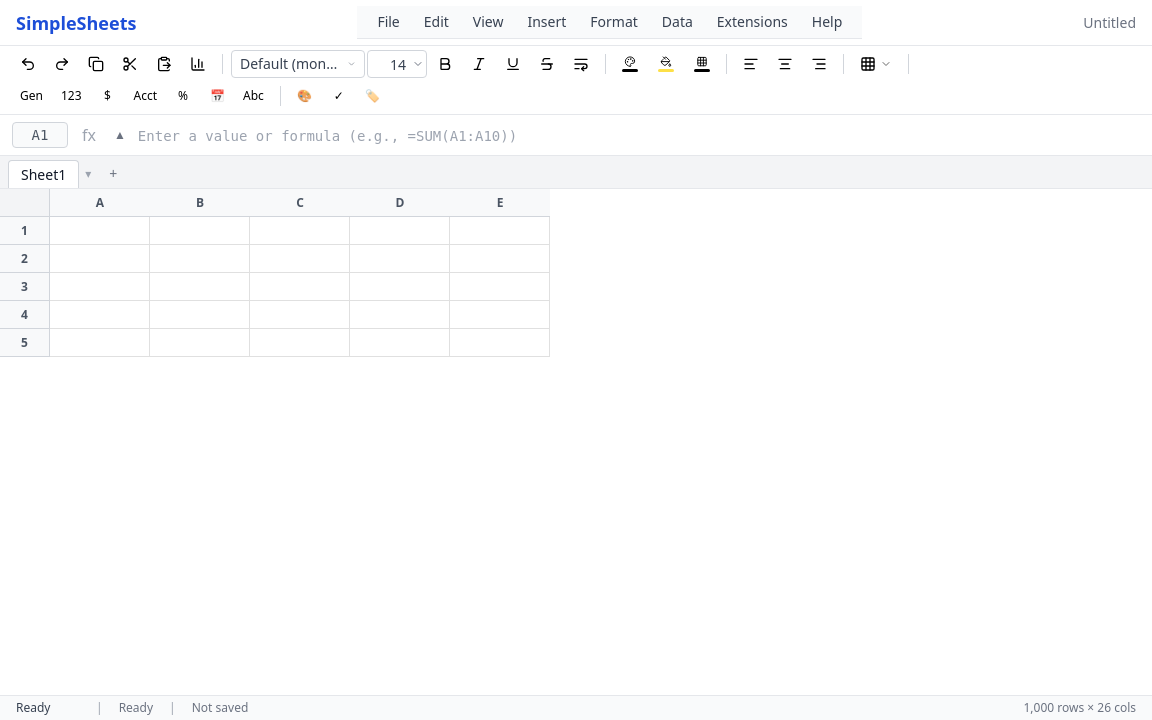
Scenario: App - Sheet Operations › adds a new sheet via SheetTabs
What coordinates should you click on to do the following:
click the button titled "Add a new sheet"
I would click on:
 (113, 174)
Its box is left=101, top=160, right=125, bottom=188.
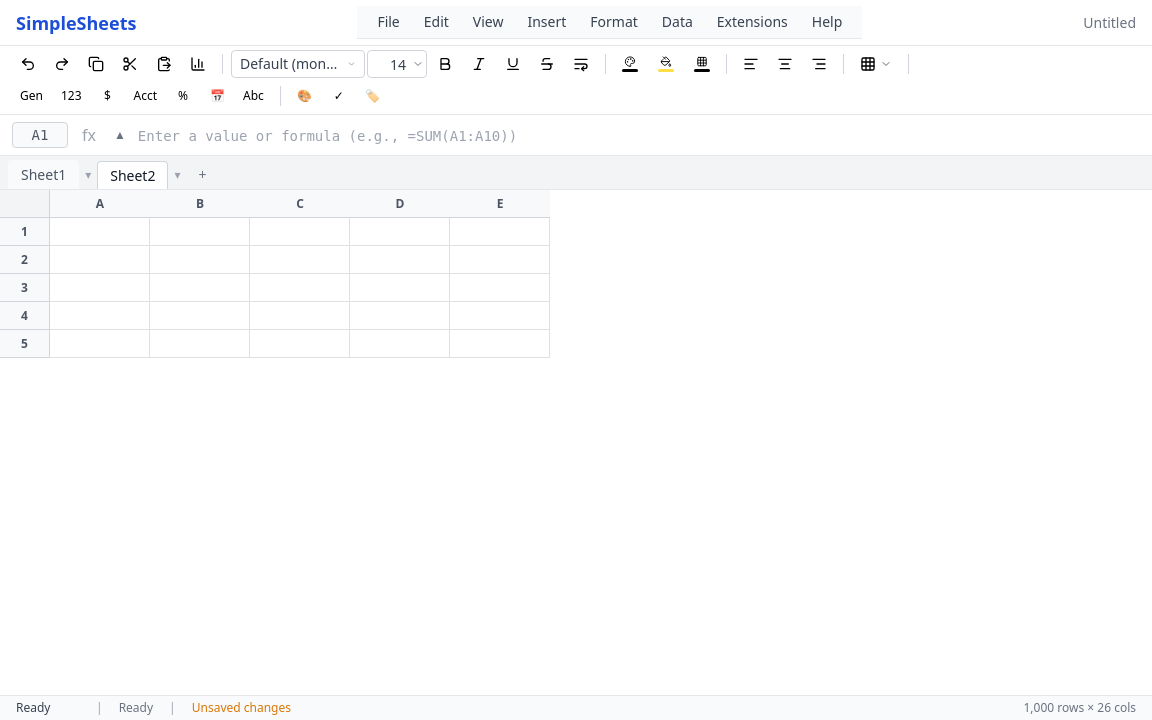
expect the button "Sheet2" is shown: met, box left=97, top=161, right=168, bottom=190
